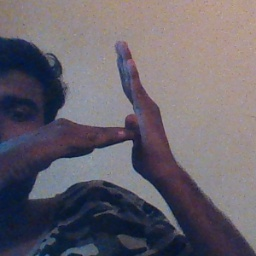Z: (64, 37, 178, 182)
